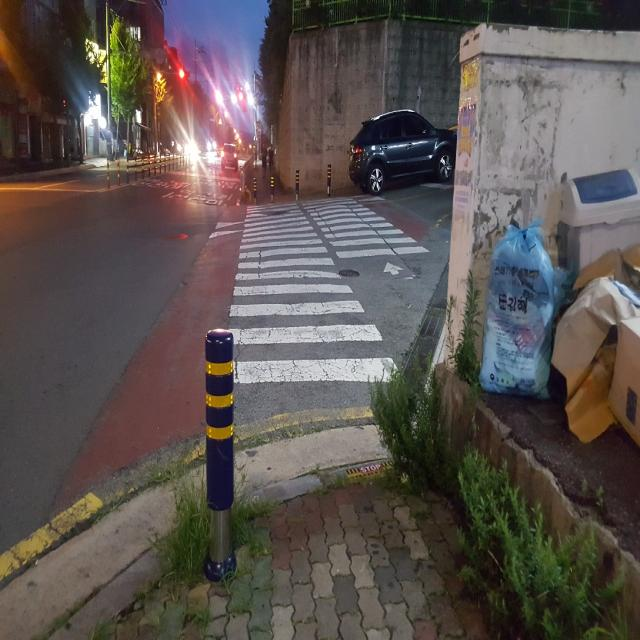횡단보도: (226, 195, 432, 388)
